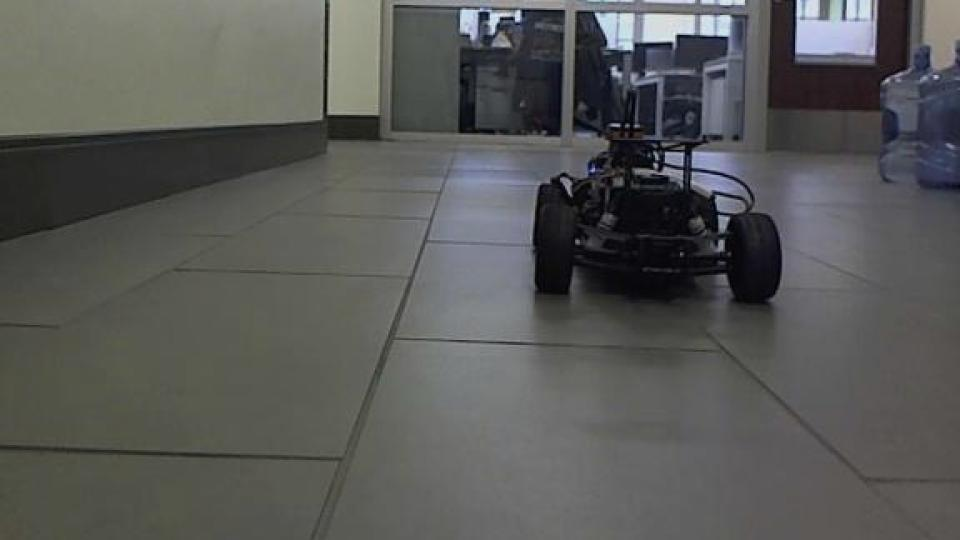car: (528, 120, 787, 307)
